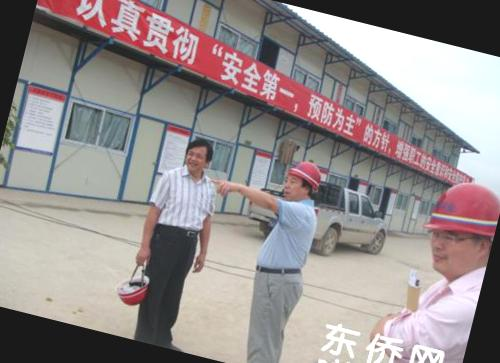no_helmet: (178, 132, 219, 180)
